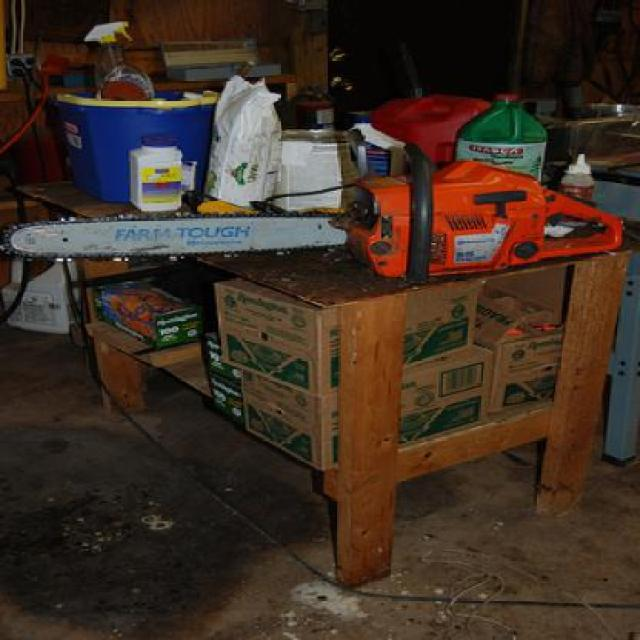Chainsaw: (5, 142, 626, 283)
